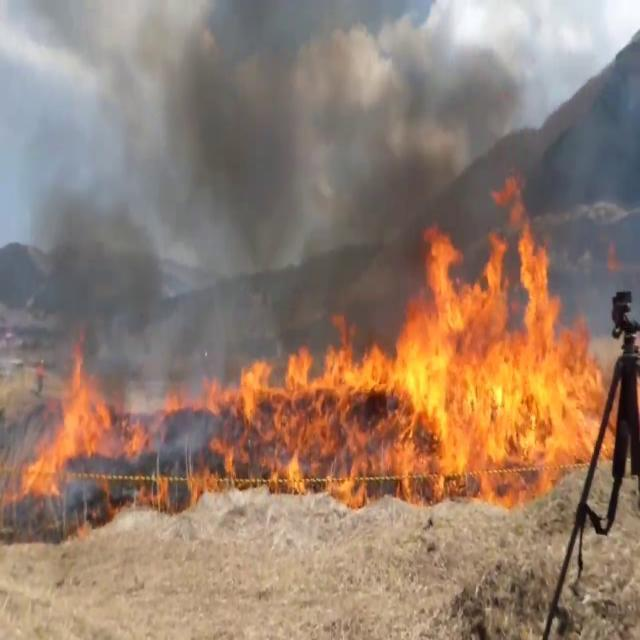Fire: (158, 188, 596, 491), (16, 342, 142, 500)
Smoke: (5, 2, 608, 358)
